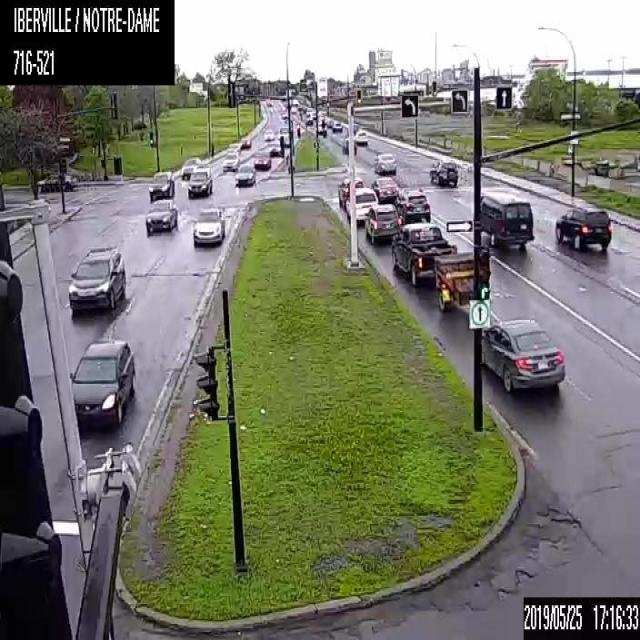vehicle: (390, 223, 473, 312), (481, 314, 564, 390), (70, 336, 135, 428), (66, 245, 126, 315), (479, 188, 534, 248), (554, 204, 611, 249), (364, 202, 399, 245), (191, 205, 224, 244), (346, 185, 378, 224), (395, 187, 430, 222), (145, 198, 176, 233), (427, 154, 459, 187), (336, 176, 362, 208), (148, 168, 174, 198), (187, 166, 212, 197), (38, 171, 73, 192), (371, 176, 398, 202), (180, 156, 202, 180), (374, 151, 396, 173), (236, 162, 254, 185), (222, 151, 239, 173), (340, 136, 356, 155), (254, 152, 270, 170), (354, 128, 368, 144), (278, 125, 289, 144), (269, 140, 281, 155), (316, 118, 326, 134), (239, 136, 250, 148), (263, 128, 274, 140), (332, 120, 342, 132), (325, 116, 333, 126), (305, 106, 313, 115), (264, 98, 272, 106), (305, 115, 312, 124), (310, 111, 316, 118), (471, 209, 475, 216)
